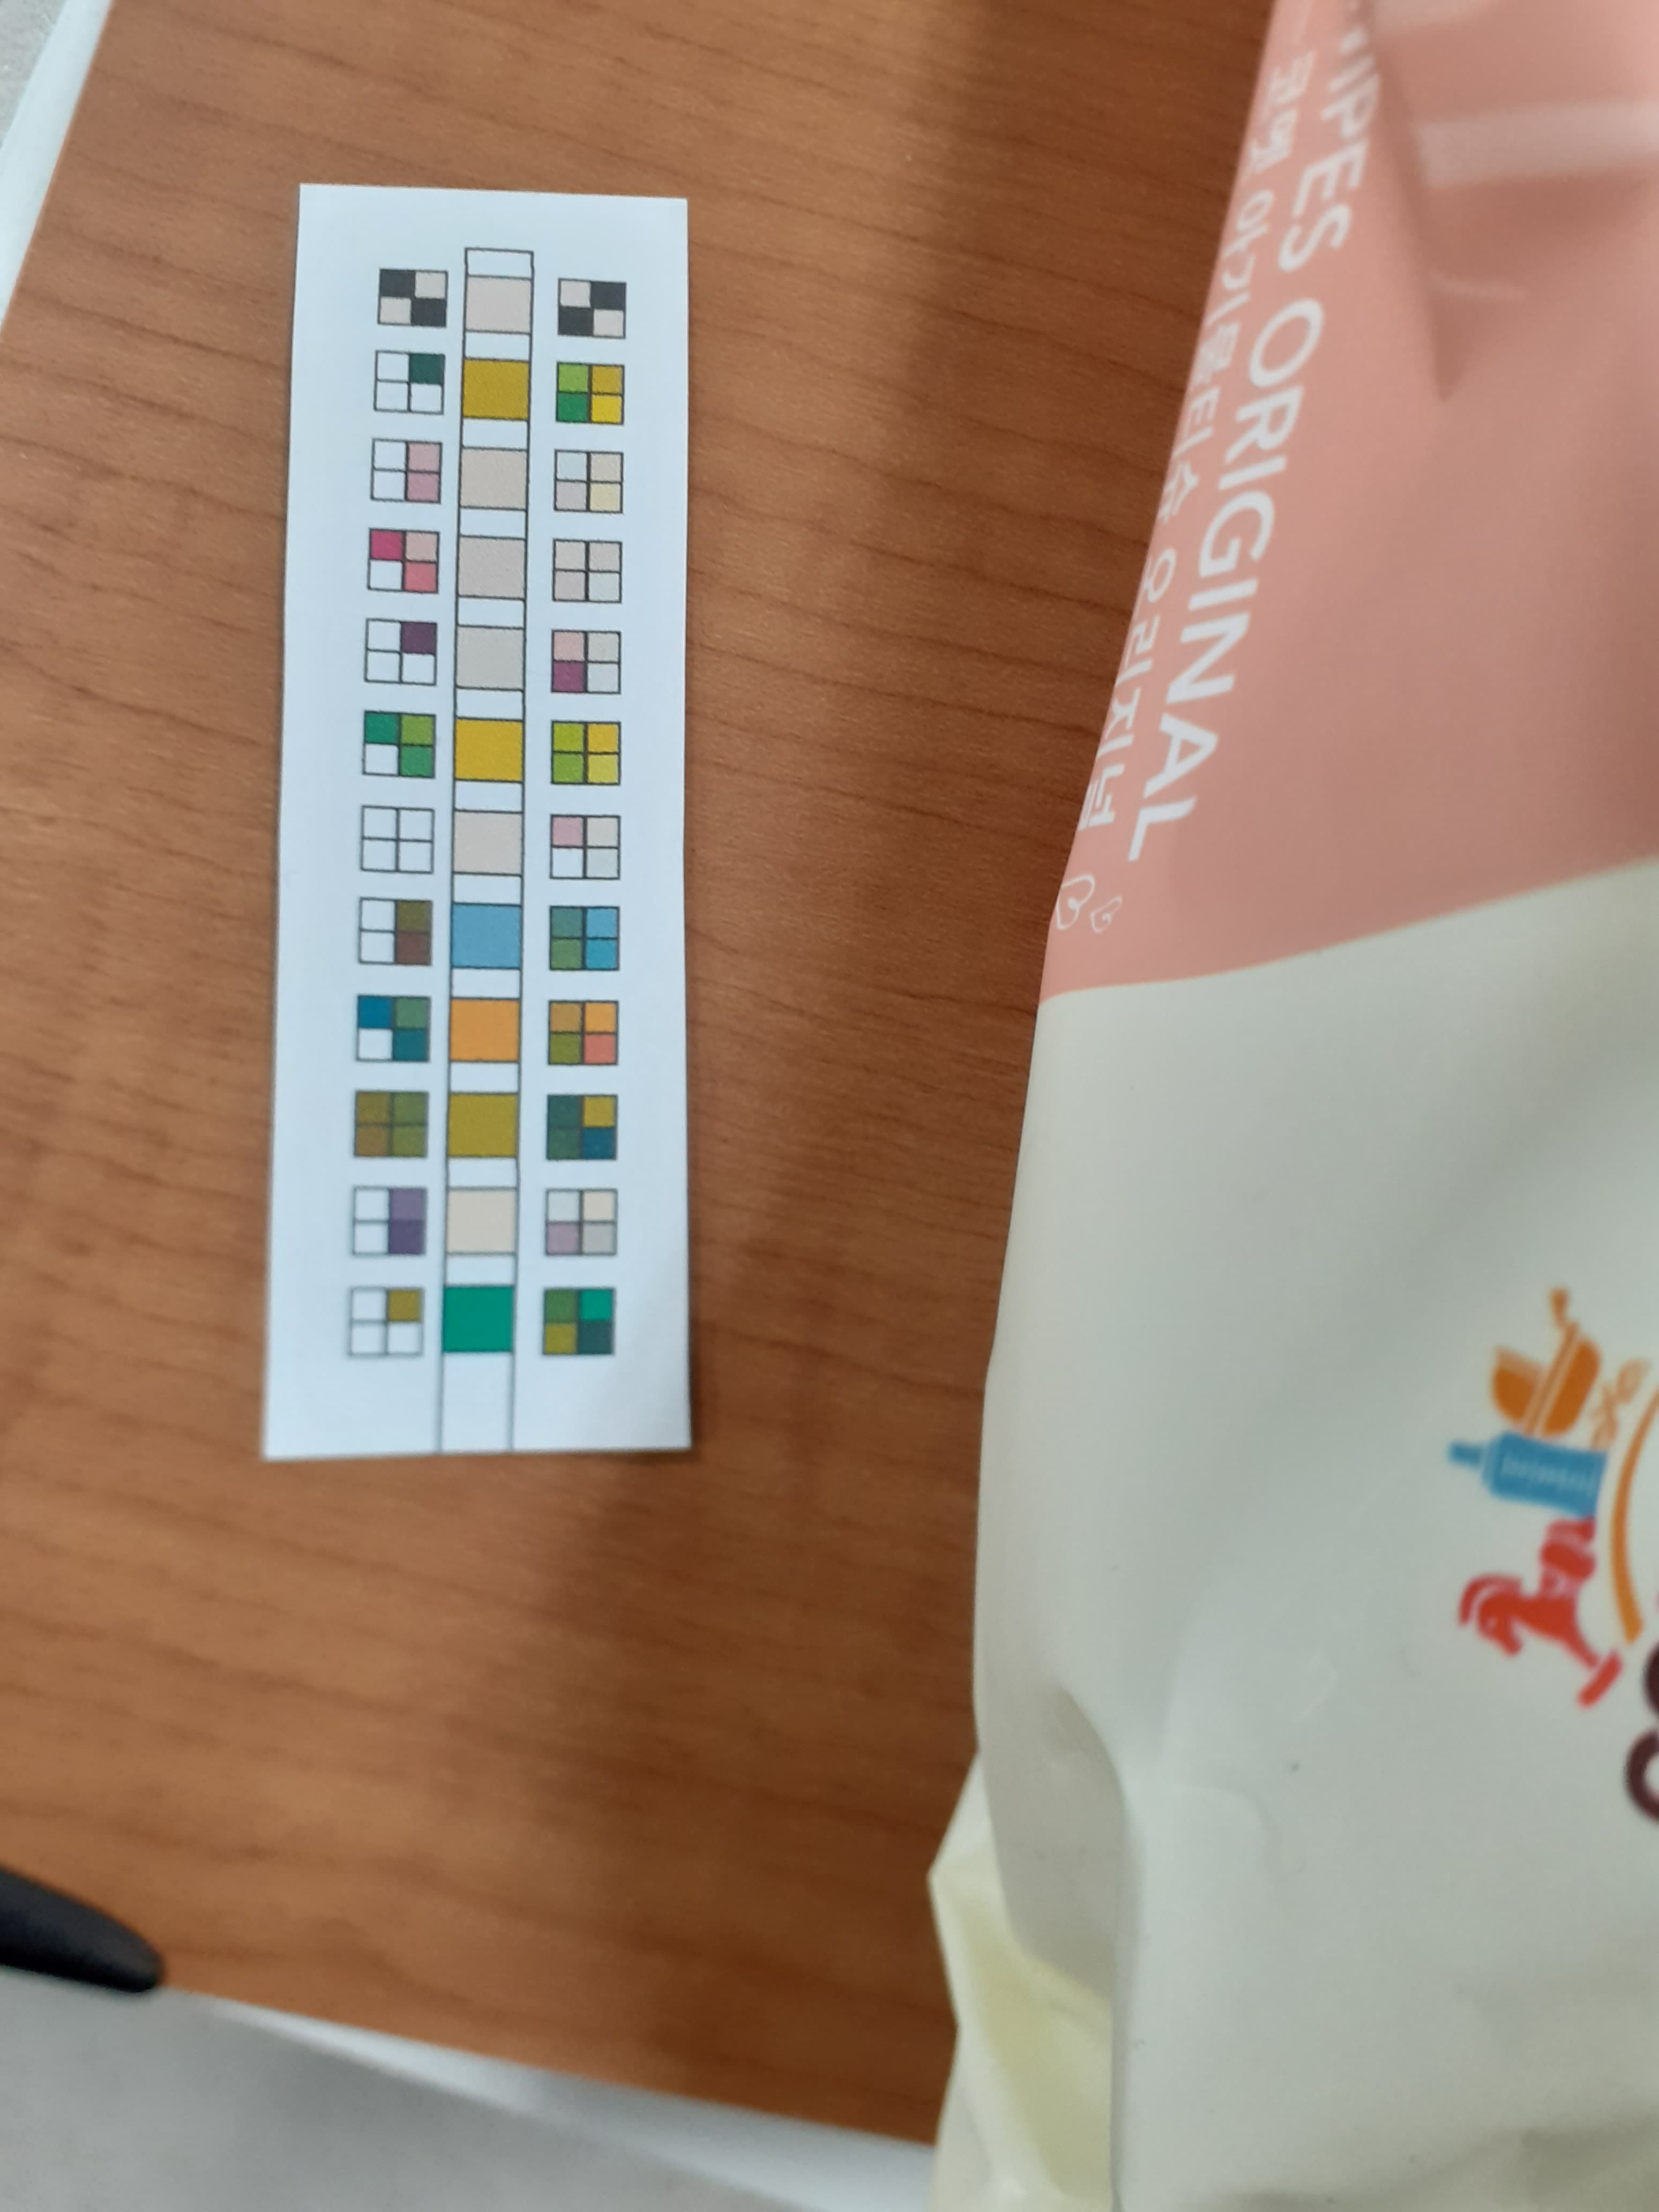tester: (301, 176, 694, 1451)
